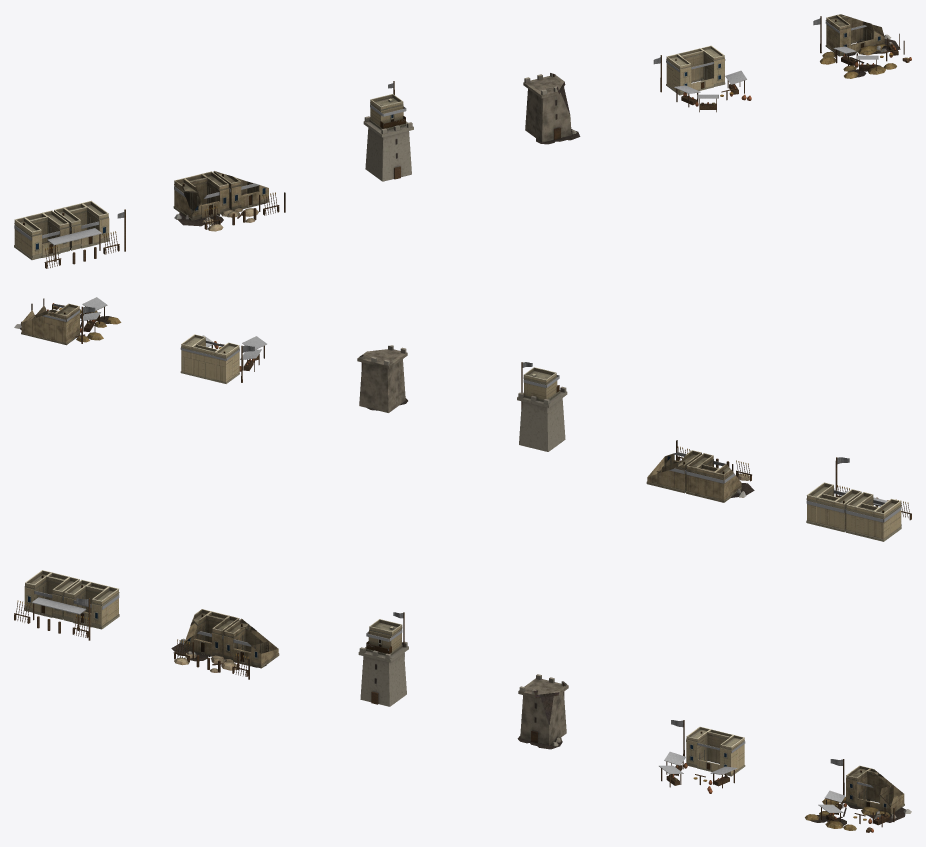
File: rts-kingdoms-israelite.glb
3 renders of one model, top to bottom at view 1: azimuth 30°, elevation 25°; view 2: azimuth 150°, elevation 25°; view 3: azimuth 330°, elevation 25°, orthographic.
Visible parts, largest first — view 1: LOD0, LOD0.001, LOD0.005, LOD0.002, LOD0.004, LOD0.003; view 2: LOD0, LOD0.001, LOD0.002, LOD0.005, LOD0.004, LOD0.003; view 3: LOD0, LOD0.001, LOD0.005, LOD0.002, LOD0.004, LOD0.003.
Boxes of the visible parts, <box> form: LOD0: <box>14,200,125,268</box>; LOD0.001: <box>173,171,285,231</box>; LOD0.005: <box>813,14,911,78</box>; LOD0.002: <box>363,81,413,181</box>; LOD0.004: <box>653,45,751,112</box>; LOD0.003: <box>523,73,580,144</box>; LOD0: <box>806,457,911,541</box>; LOD0.001: <box>646,440,754,502</box>; LOD0.002: <box>517,362,567,451</box>; LOD0.005: <box>14,297,121,345</box>; LOD0.004: <box>180,334,266,383</box>; LOD0.003: <box>357,345,407,412</box>; LOD0: <box>14,570,119,640</box>; LOD0.001: <box>171,609,279,679</box>; LOD0.005: <box>805,759,911,832</box>; LOD0.002: <box>358,612,408,706</box>; LOD0.004: <box>659,720,745,793</box>; LOD0.003: <box>517,674,568,749</box>.
Size of what is drawn, in the model's own units: 16.4 by 1.48 by 1.36.
2 materials, 2 textured.
